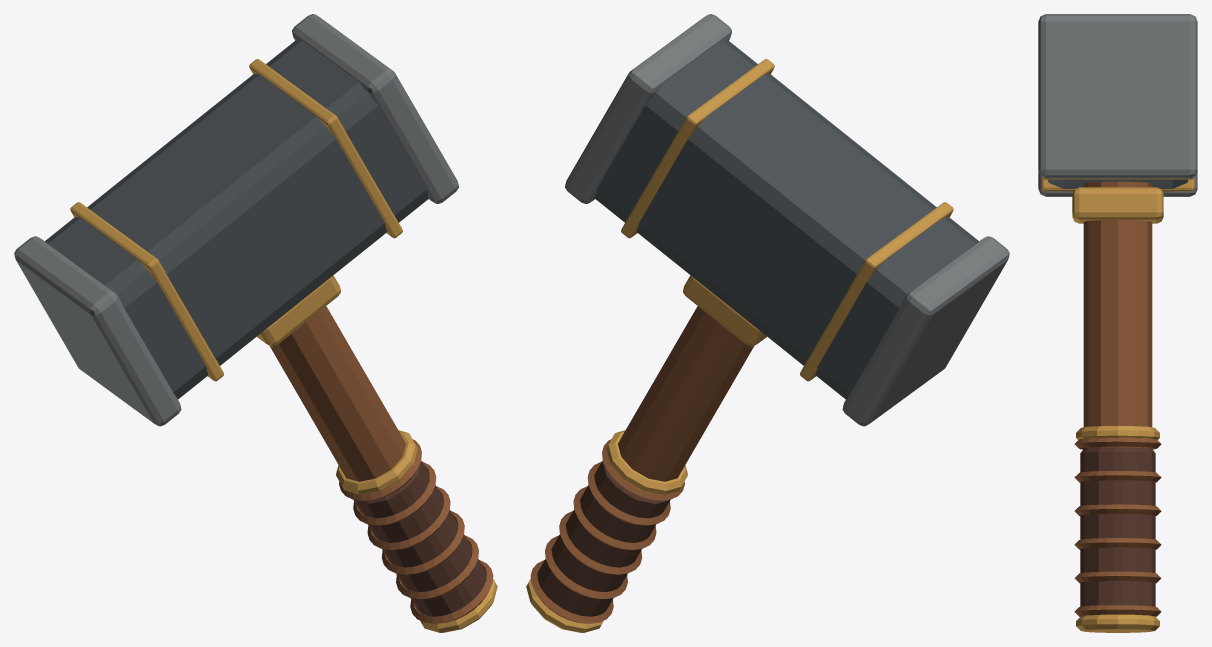
File: FS_FX_Hammer_BuildLoop.glb
3 views of the same model, side by side, from view 1: azimuth 30°, elevation 25°; view 2: azimuth 150°, elevation 25°; view 3: azimuth 270°, elevation 25° (orthographic). The views are drawn at different scales.
Parts seen in each view (by area): view 1: Hammer_IronHead, Hammer_StrikingFace_L, Hammer_OakHandle, Hammer_Grip, Hammer_StrikingFace_R, Hammer_BrassBand, Hammer_BrassBand.001, Hammer_SocketCollar, Hammer_GripCap.001, Hammer_GripWrap, Hammer_GripWrap.001, Hammer_GripWrap.004 (+4 smaller); view 2: Hammer_IronHead, Hammer_StrikingFace_L, Hammer_OakHandle, Hammer_Grip, Hammer_StrikingFace_R, Hammer_BrassBand, Hammer_BrassBand.001, Hammer_SocketCollar, Hammer_GripCap.001, Hammer_GripWrap, Hammer_GripWrap.001, Hammer_GripWrap.004 (+4 smaller); view 3: Hammer_StrikingFace_R, Hammer_OakHandle, Hammer_Grip, Hammer_SocketCollar, Hammer_GripCap, Hammer_GripCap.001, Hammer_IronHead, Hammer_GripWrap.001, Hammer_GripWrap.004, Hammer_GripWrap.002, Hammer_GripWrap.003, Hammer_GripWrap (+4 smaller).
Part boxes in pixels (<box>): Hammer_IronHead: <box>45,40,428,399</box>; Hammer_StrikingFace_L: <box>14,236,181,426</box>; Hammer_OakHandle: <box>270,306,405,481</box>; Hammer_Grip: <box>353,460,486,616</box>; Hammer_StrikingFace_R: <box>292,14,458,203</box>; Hammer_BrassBand: <box>70,202,223,381</box>; Hammer_BrassBand.001: <box>249,59,402,238</box>; Hammer_SocketCollar: <box>257,275,340,346</box>; Hammer_GripCap.001: <box>336,430,417,494</box>; Hammer_GripWrap: <box>410,560,493,623</box>; Hammer_GripWrap.001: <box>396,535,478,598</box>; Hammer_GripWrap.004: <box>353,461,436,525</box>; Hammer_IronHead: <box>595,40,978,399</box>; Hammer_StrikingFace_L: <box>842,236,1009,426</box>; Hammer_OakHandle: <box>618,306,753,481</box>; Hammer_Grip: <box>537,460,670,616</box>; Hammer_StrikingFace_R: <box>565,14,731,203</box>; Hammer_BrassBand: <box>800,202,953,381</box>; Hammer_BrassBand.001: <box>621,59,774,238</box>; Hammer_SocketCollar: <box>683,275,766,346</box>; Hammer_GripCap.001: <box>606,430,687,494</box>; Hammer_GripWrap: <box>530,560,613,623</box>; Hammer_GripWrap.001: <box>545,535,627,598</box>; Hammer_GripWrap.004: <box>587,461,670,525</box>; Hammer_StrikingFace_R: <box>1038,14,1197,178</box>; Hammer_OakHandle: <box>1083,181,1152,448</box>; Hammer_Grip: <box>1080,447,1155,616</box>; Hammer_SocketCollar: <box>1072,187,1163,223</box>; Hammer_GripCap: <box>1076,614,1159,632</box>; Hammer_GripCap.001: <box>1076,426,1159,439</box>; Hammer_IronHead: <box>1048,179,1187,191</box>; Hammer_GripWrap.001: <box>1074,571,1161,583</box>; Hammer_GripWrap.004: <box>1074,471,1161,482</box>; Hammer_GripWrap.002: <box>1074,538,1161,549</box>; Hammer_GripWrap.003: <box>1074,504,1161,515</box>; Hammer_GripWrap: <box>1074,605,1161,616</box>.
Bounding box in the file's own units: 0.8228 × 1.09 × 0.27.
